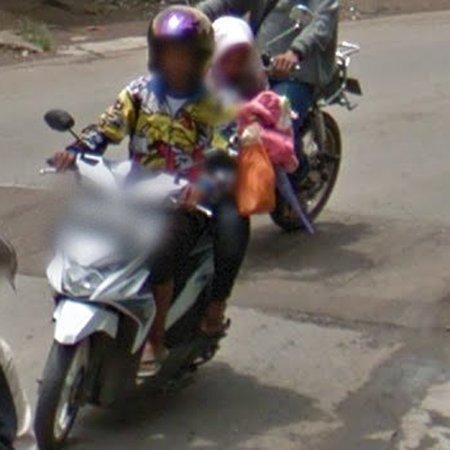motorcycles: (34, 110, 214, 450)
